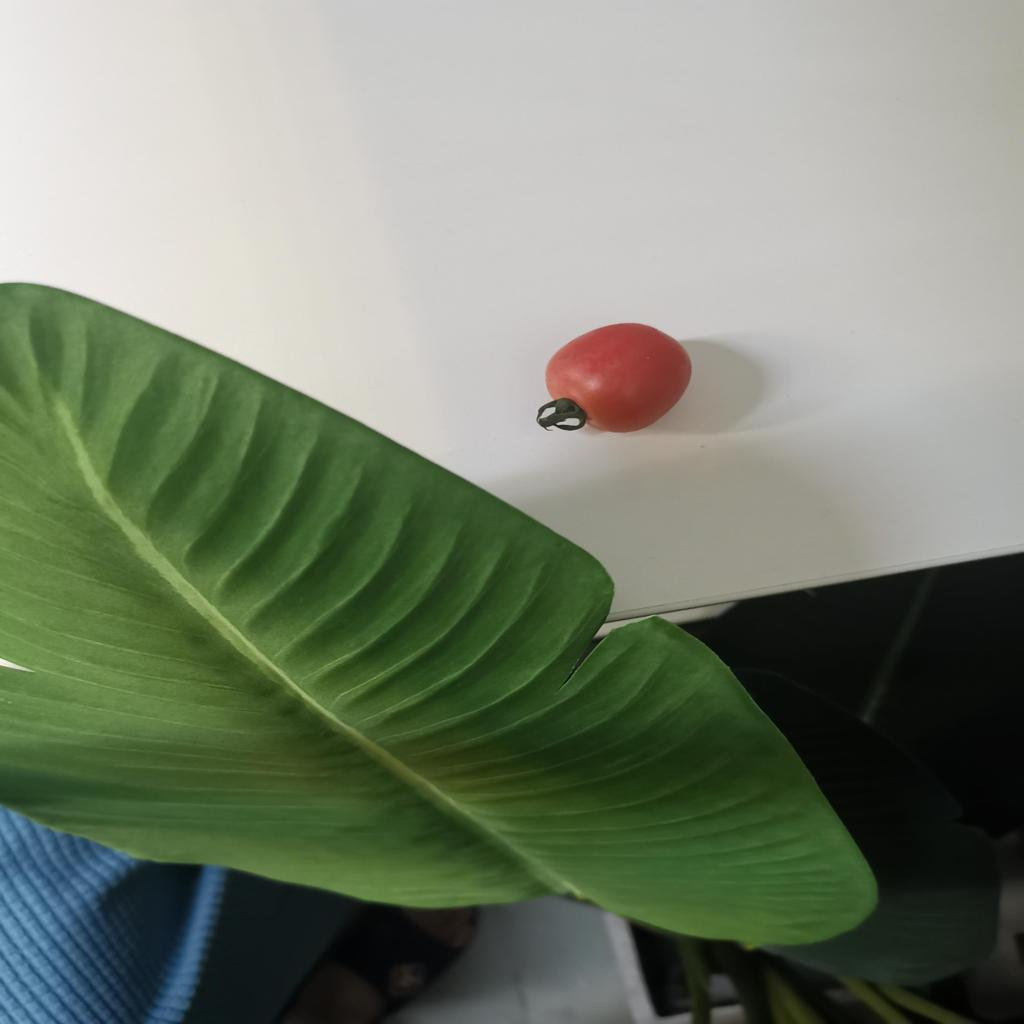tomato: (540, 328, 696, 434)
